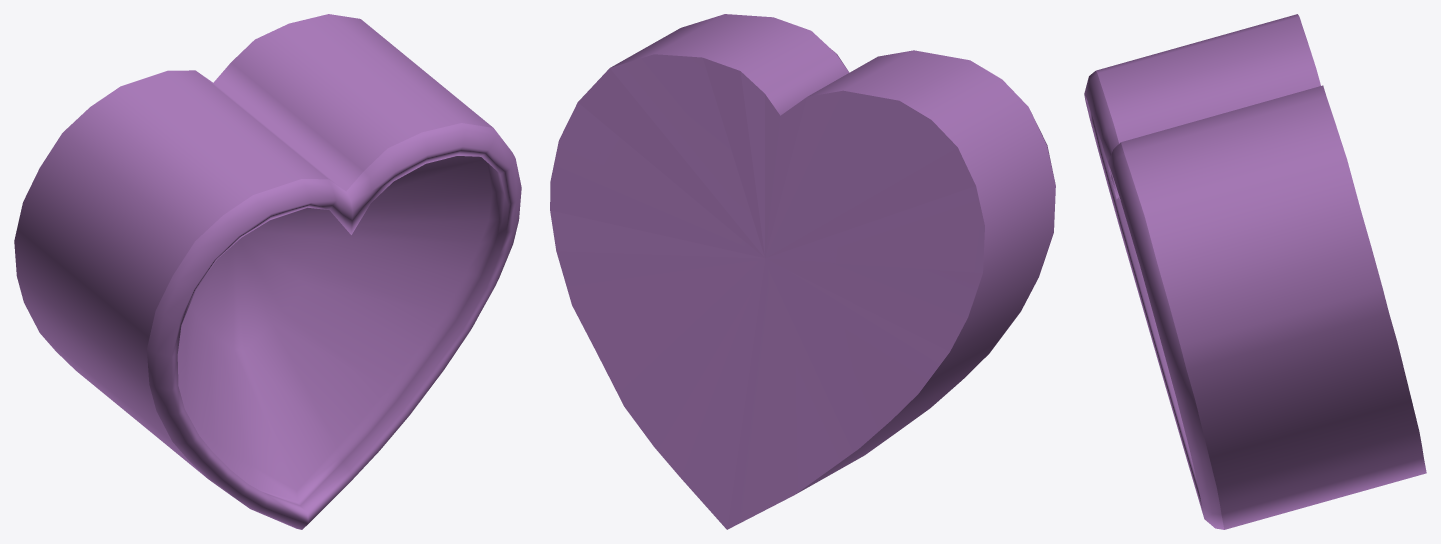
The model's file is BR1_8shapes_heart_Classic_Metal.001 2.glb.
3 views of the same model, side by side, from view 1: azimuth 30°, elevation 25°; view 2: azimuth 150°, elevation 25°; view 3: azimuth 270°, elevation 25° (orthographic).
Visible parts, largest first — view 1: BR1_8shapes_heart_Classic_Metal.001; view 2: BR1_8shapes_heart_Classic_Metal.001; view 3: BR1_8shapes_heart_Classic_Metal.001.
Part boxes in pixels (x1=…): BR1_8shapes_heart_Classic_Metal.001: x1=14, y1=14, x2=521, y2=529; BR1_8shapes_heart_Classic_Metal.001: x1=550, y1=14, x2=1055, y2=529; BR1_8shapes_heart_Classic_Metal.001: x1=1084, y1=14, x2=1426, y2=529.
Bounding box in the file's own units: 0.4989 × 0.5052 × 0.3452.
